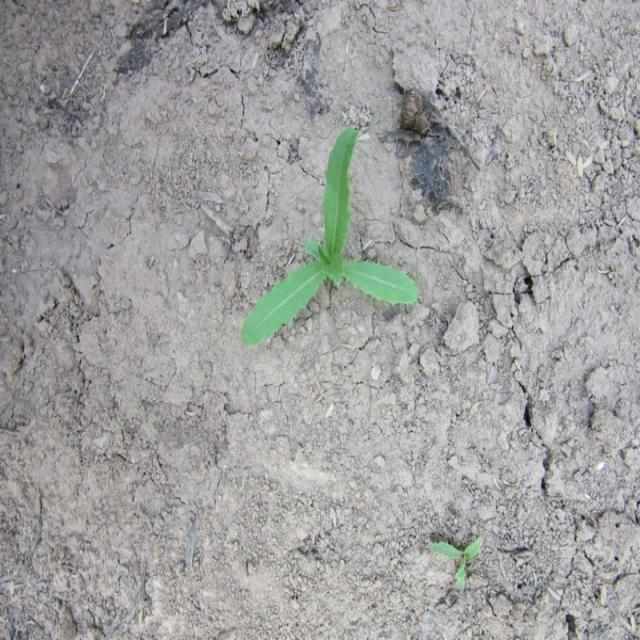field_thistle: (228, 101, 422, 348)
